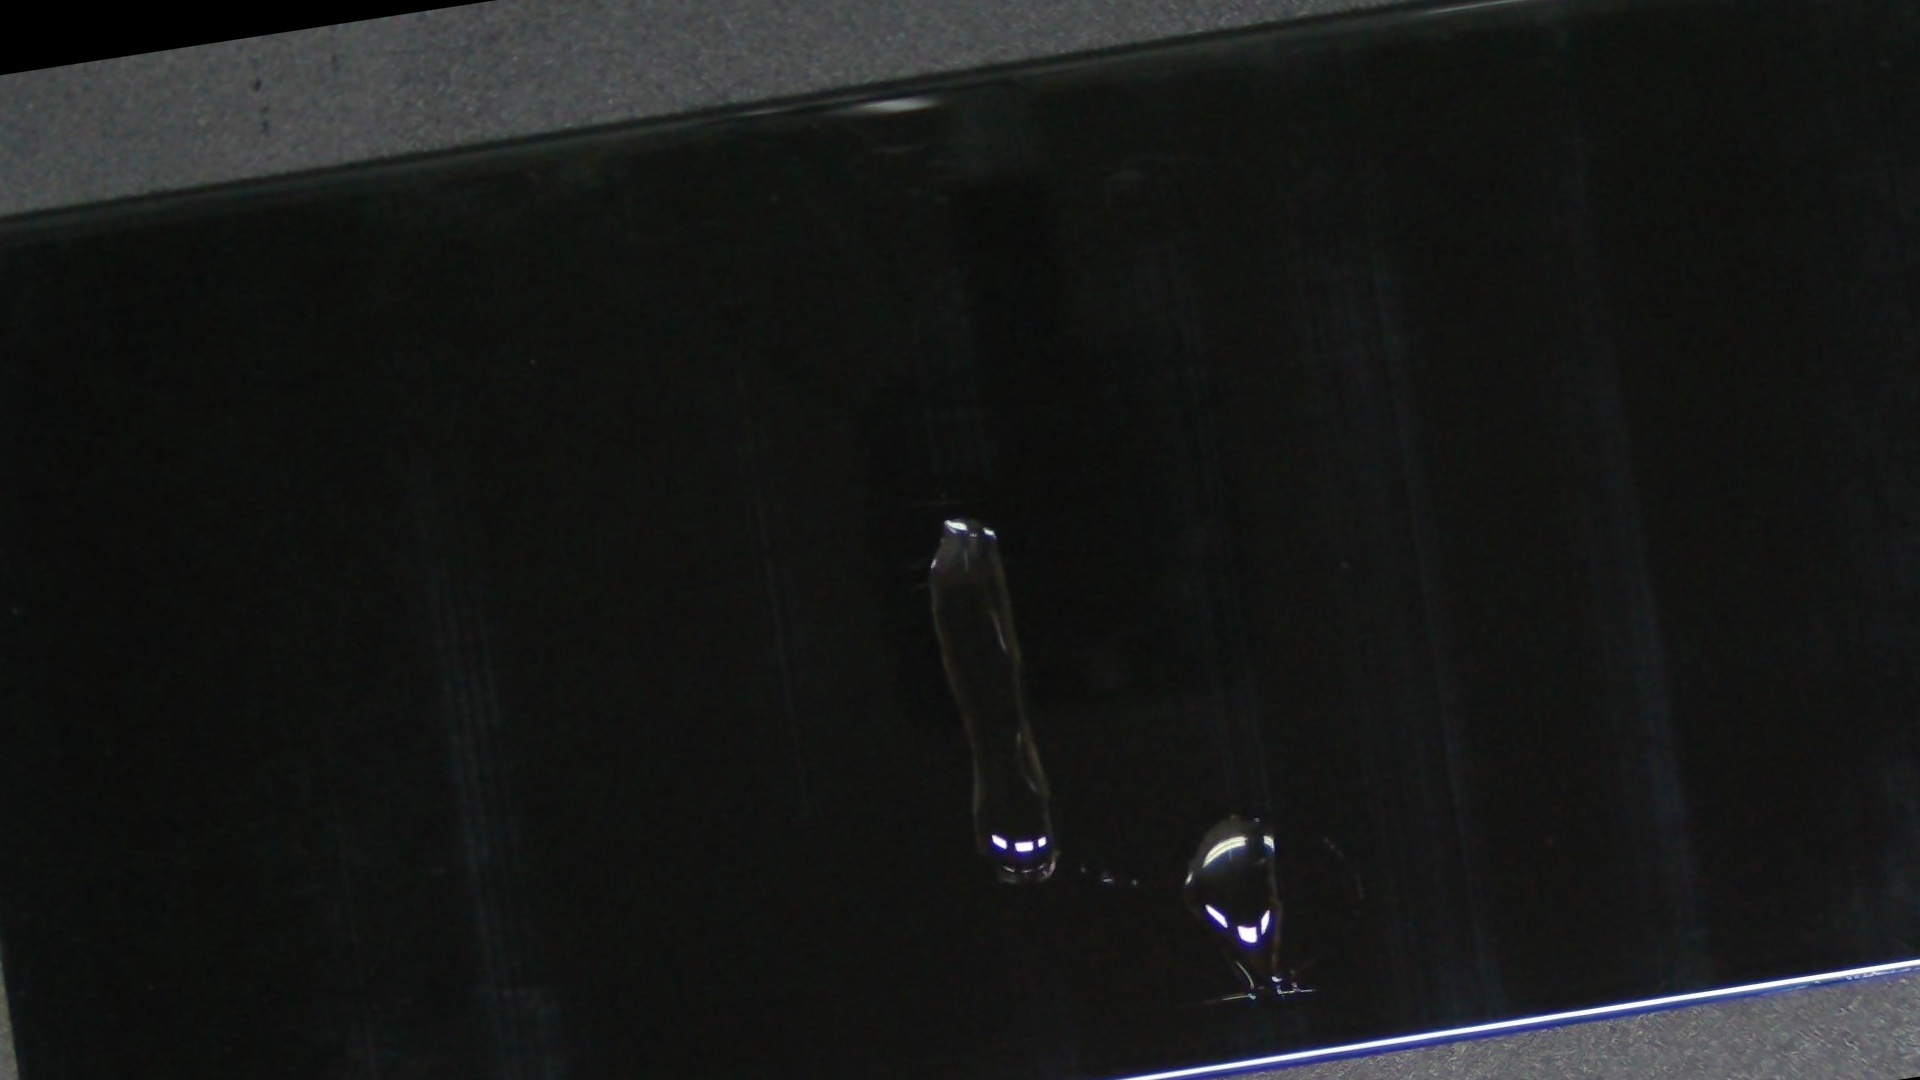oil: (530, 264, 1920, 1080), (388, 153, 1503, 886)
